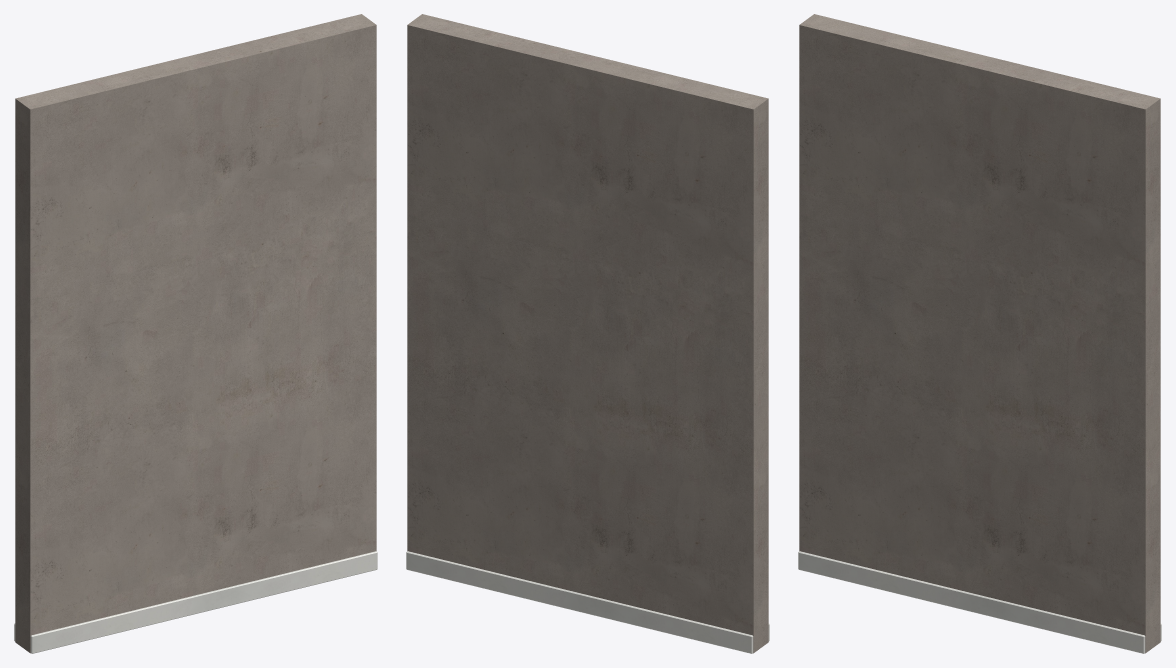
Rendered from wall_2x3.fbx.
3 views of the same model, side by side, from view 1: azimuth 30°, elevation 25°; view 2: azimuth 150°, elevation 25°; view 3: azimuth 330°, elevation 25° (orthographic).
Parts seen in each view (by area): view 1: wall_2x3; view 2: wall_2x3; view 3: wall_2x3.
Boxes of the visible parts, left/top/right/bottom form: wall_2x3: left=14, top=14, right=377, bottom=653; wall_2x3: left=406, top=14, right=769, bottom=653; wall_2x3: left=798, top=14, right=1161, bottom=653.
Size of what is drawn, in the model's own units: 200 by 300 by 18.
Materials: 2 (2 with a texture image).
